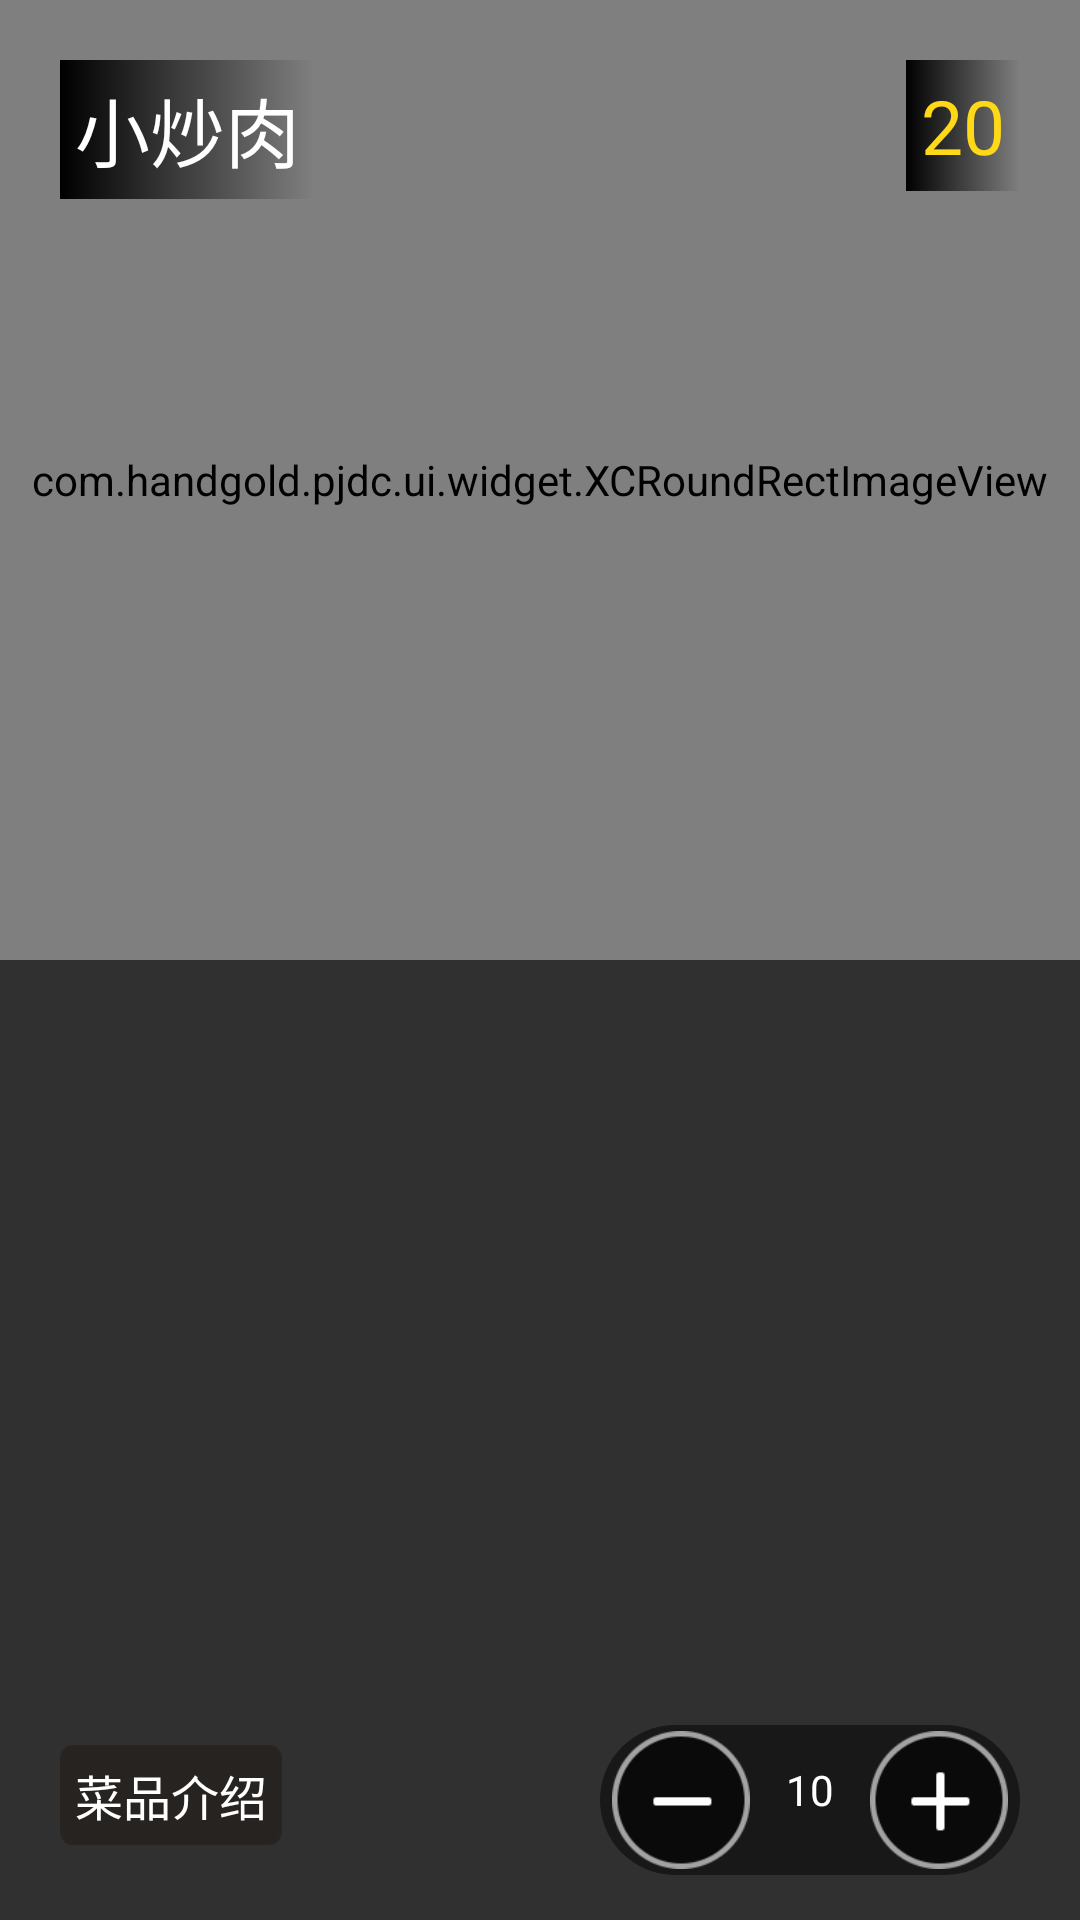

Locate icon controls on the screen. Image size 1080×1920, boxes as (x1, y1, x2, y2).
add: (870, 1731, 1014, 1869)
sub: (606, 1731, 750, 1869)
